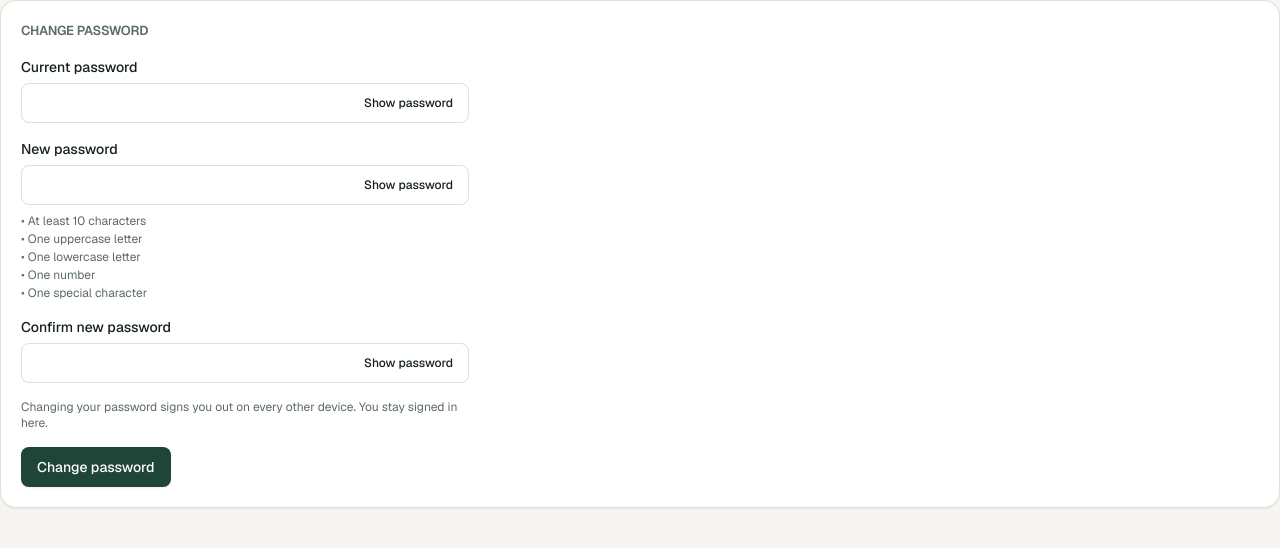
Test: ChangePasswordCard › enforces the password policy on the new password
Type "Current-Password-123!" into the password field labelled "Current password".
click(245, 102); type("Current-Password-123!")  # box [21, 82, 469, 122]
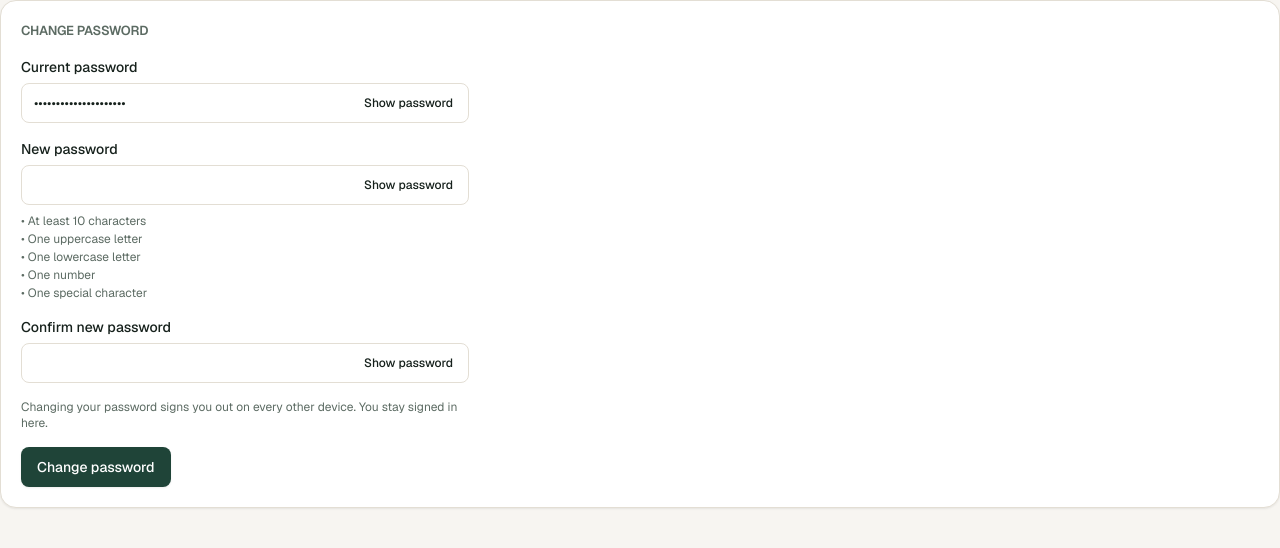
Type "weakpass" into the password field labelled "New password".
click(245, 184); type("weakpass")  # box [21, 164, 469, 204]
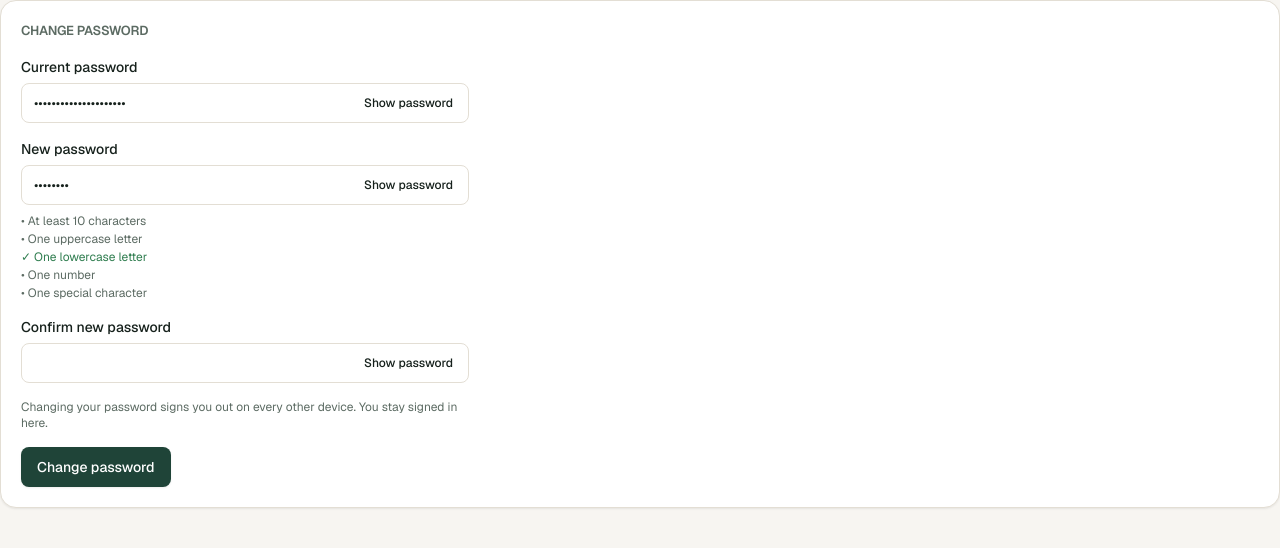
Type "weakpass" into the password field labelled "Confirm new password".
click(245, 362); type("weakpass")  # box [21, 342, 469, 382]
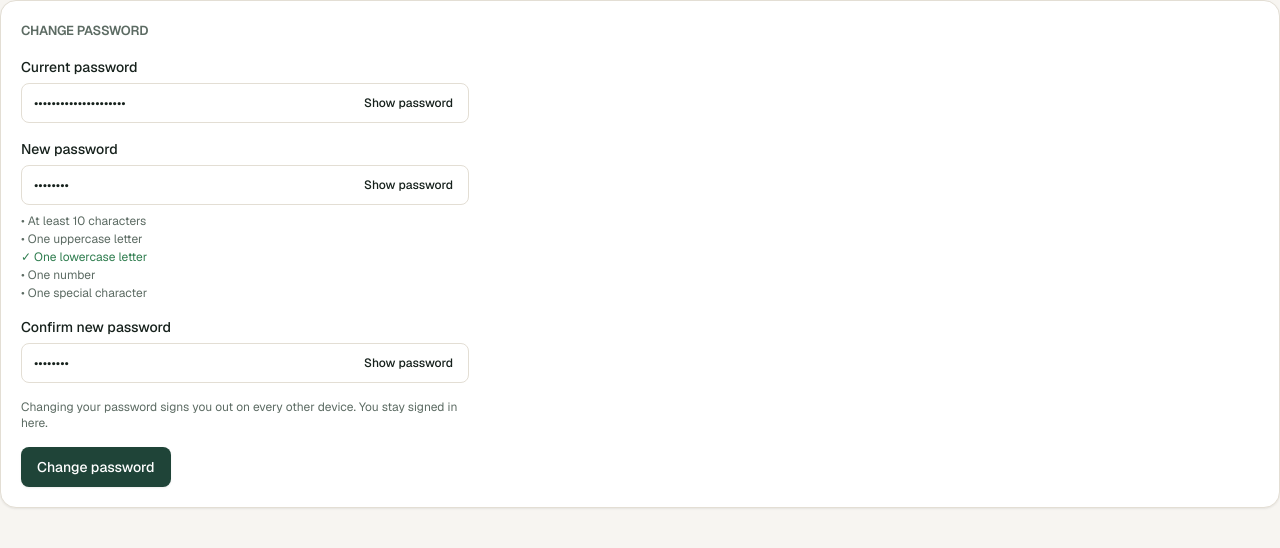
Click the button "Change password".
click(96, 466)  # box [21, 446, 170, 486]
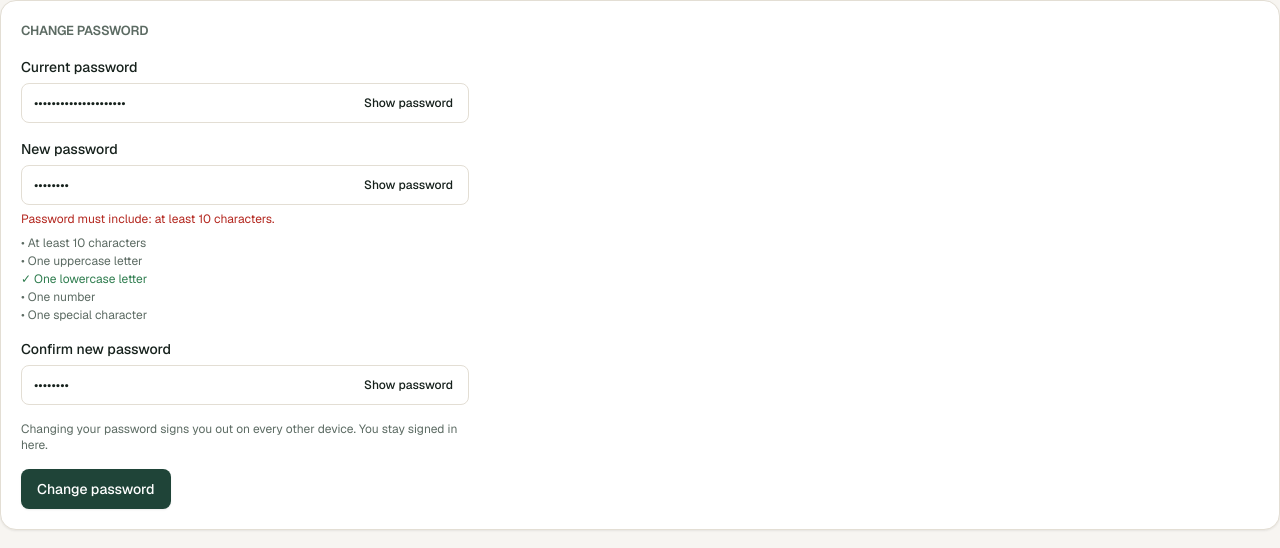
Check: the text "Password must include: at least 10 characters." is shown, box [21, 210, 274, 226]
